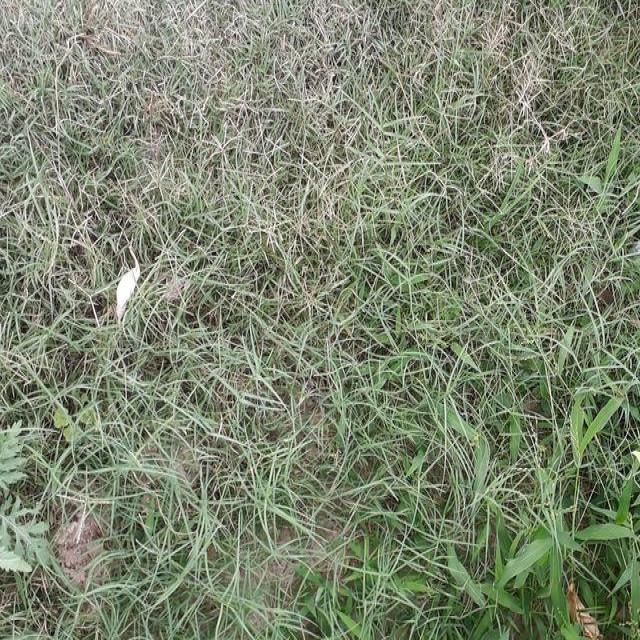weed: (32, 376, 313, 640), (340, 407, 640, 640)
